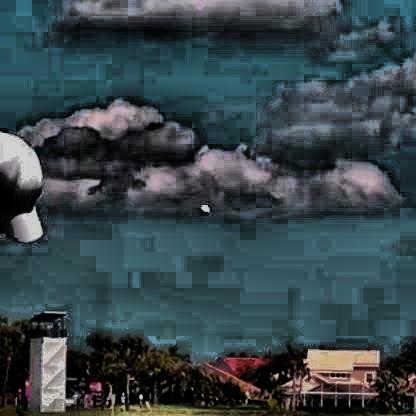golfball: (198, 202, 211, 216)
